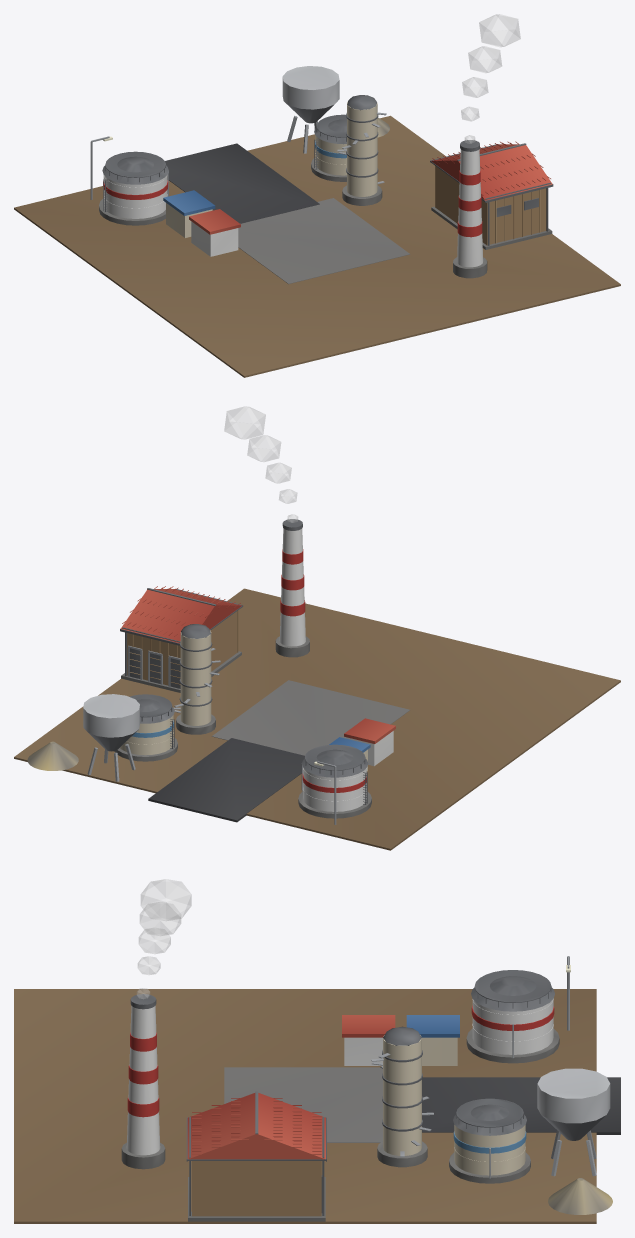
Rendered from Refinery_P1.fbx.
The picture shows the model from 3 angles, top to bottom: view 1: azimuth 30°, elevation 25°; view 2: azimuth 150°, elevation 25°; view 3: azimuth 270°, elevation 25°; orthographic projection. The views are drawn at different scales.
Visible parts, largest first — view 1: Refinery.Pad, Refinery.Hall, Refinery.Tank0, Refinery.Col0, Refinery.Stack0, Refinery.Utils, Refinery.Intake, Refinery.Smoke0, Refinery.Tank1; view 2: Refinery.Pad, Refinery.Hall, Refinery.Tank0, Refinery.Col0, Refinery.Stack0, Refinery.Intake, Refinery.Tank1, Refinery.Smoke0, Refinery.Utils, Refinery.CoalIn; view 3: Refinery.Pad, Refinery.Hall, Refinery.Tank0, Refinery.Tank1, Refinery.Col0, Refinery.Stack0, Refinery.Intake, Refinery.Utils, Refinery.Smoke0, Refinery.CoalIn.
Part boxes in pixels (left/top/right/bottom): Refinery.Pad: left=14, top=115, right=620, bottom=377; Refinery.Hall: left=430, top=141, right=553, bottom=249; Refinery.Tank0: left=99, top=151, right=168, bottom=225; Refinery.Col0: left=337, top=95, right=386, bottom=205; Refinery.Stack0: left=453, top=140, right=487, bottom=278; Refinery.Utils: left=163, top=190, right=240, bottom=256; Refinery.Intake: left=282, top=66, right=339, bottom=153; Refinery.Smoke0: left=461, top=14, right=520, bottom=143; Refinery.Tank1: left=311, top=114, right=346, bottom=181; Refinery.Pad: left=14, top=588, right=620, bottom=850; Refinery.Hall: left=120, top=586, right=243, bottom=692; Refinery.Tank0: left=298, top=744, right=371, bottom=818; Refinery.Col0: left=173, top=624, right=220, bottom=734; Refinery.Stack0: left=275, top=519, right=309, bottom=657; Refinery.Intake: left=83, top=694, right=139, bottom=781; Refinery.Tank1: left=114, top=694, right=177, bottom=761; Refinery.Smoke0: left=224, top=406, right=297, bottom=522; Refinery.Utils: left=329, top=718, right=395, bottom=771; Refinery.CoalIn: left=27, top=741, right=78, bottom=770; Refinery.Pad: left=14, top=989, right=620, bottom=1223; Refinery.Hall: left=186, top=1091, right=326, bottom=1221; Refinery.Tank0: left=466, top=970, right=559, bottom=1063; Refinery.Tank1: left=449, top=1098, right=530, bottom=1183; Refinery.Col0: left=371, top=1026, right=433, bottom=1167; Refinery.Stack0: left=121, top=994, right=165, bottom=1169; Refinery.Intake: left=537, top=1068, right=610, bottom=1176; Refinery.Utils: left=342, top=1015, right=459, bottom=1065; Refinery.Smoke0: left=137, top=879, right=191, bottom=998; Refinery.CoalIn: left=548, top=1178, right=612, bottom=1214.
Size of the model in its own units: 6817 by 4189 by 7500.
